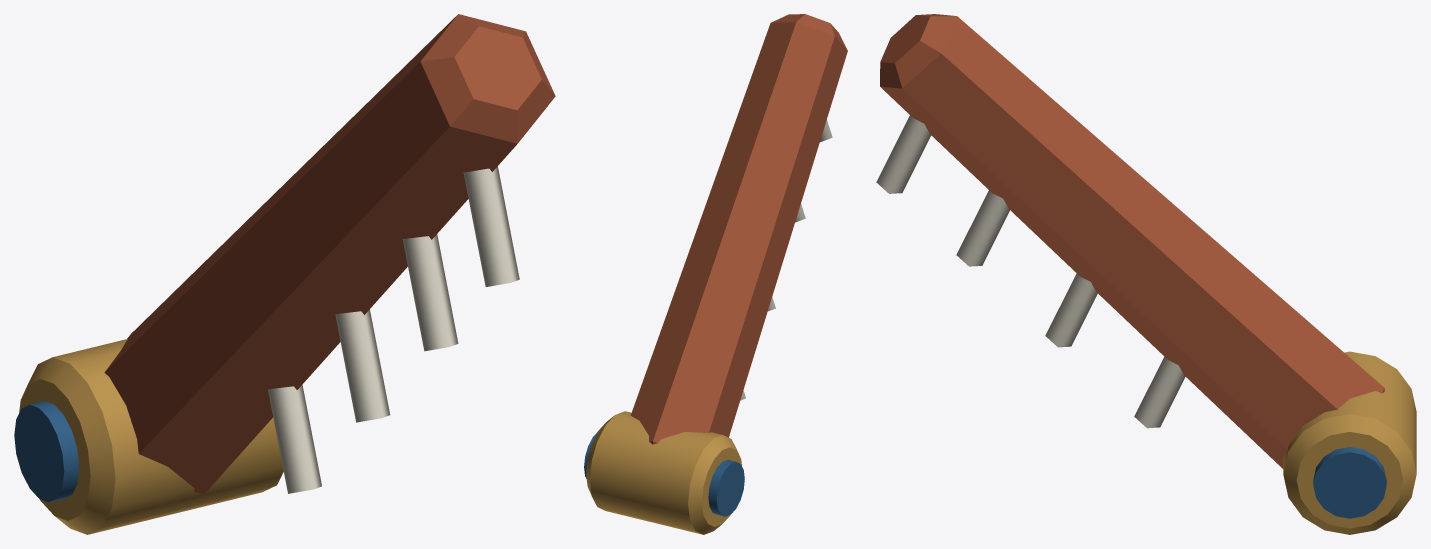
Rendered from rm2_arm_l_fore.obj.
The picture shows the model from 3 angles, left to right: view 1: azimuth 30°, elevation 25°; view 2: azimuth 150°, elevation 25°; view 3: azimuth 270°, elevation 25°; orthographic projection. The views are drawn at different scales.
Visible parts, largest first — view 1: rm2_arm_l_fore; view 2: rm2_arm_l_fore; view 3: rm2_arm_l_fore.
Boxes of the visible parts, left/top/right/bottom form: rm2_arm_l_fore: left=14, top=14, right=555, bottom=534; rm2_arm_l_fore: left=584, top=14, right=847, bottom=534; rm2_arm_l_fore: left=876, top=14, right=1416, bottom=534.
Bounding box in the file's own units: 0.126 × 0.3473 × 0.3403.
